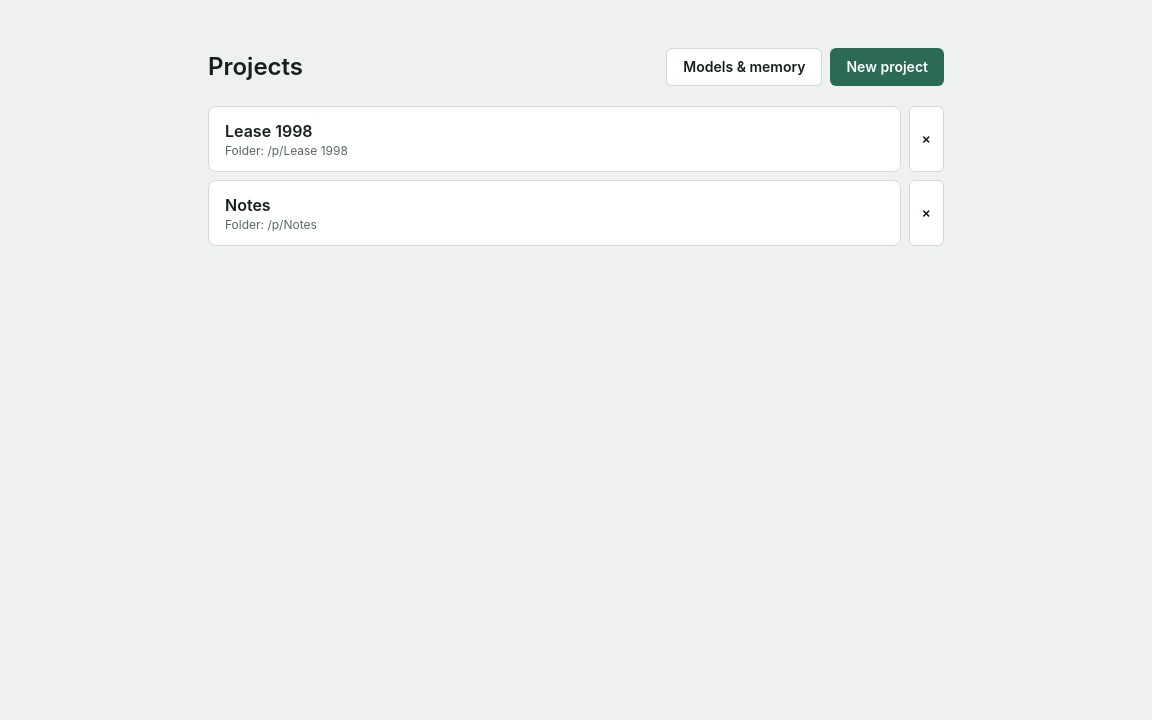
Test: Removing a project › sends the name as typed, and the list loses the project
This screenshot has width=1152, height=720.
Step 1. Click the button named "Remove Lease 1998" → point(926, 139), box 909,106 -> 944,172
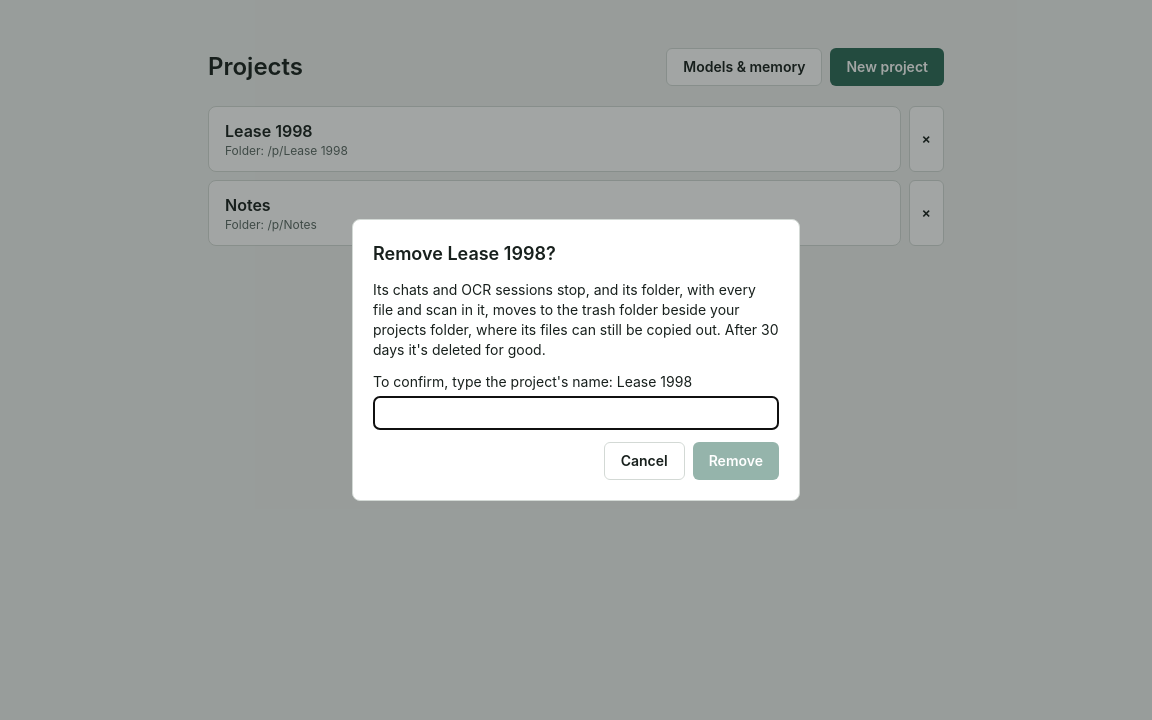
Step 2. Type "Lease 1998" into the field labelled "To confirm, type the project's name: Lease 1998" → point(576, 413), box 373,396 -> 779,430
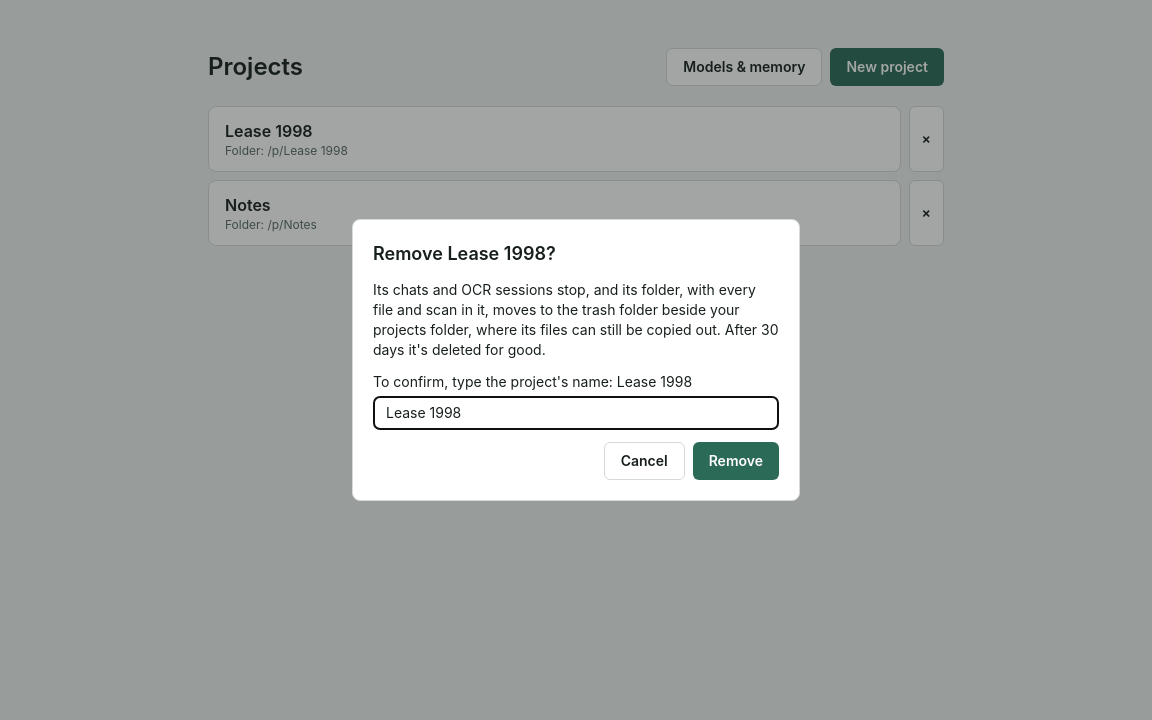
Step 3. Click the button "Remove" → point(736, 461), box 693,442 -> 779,480
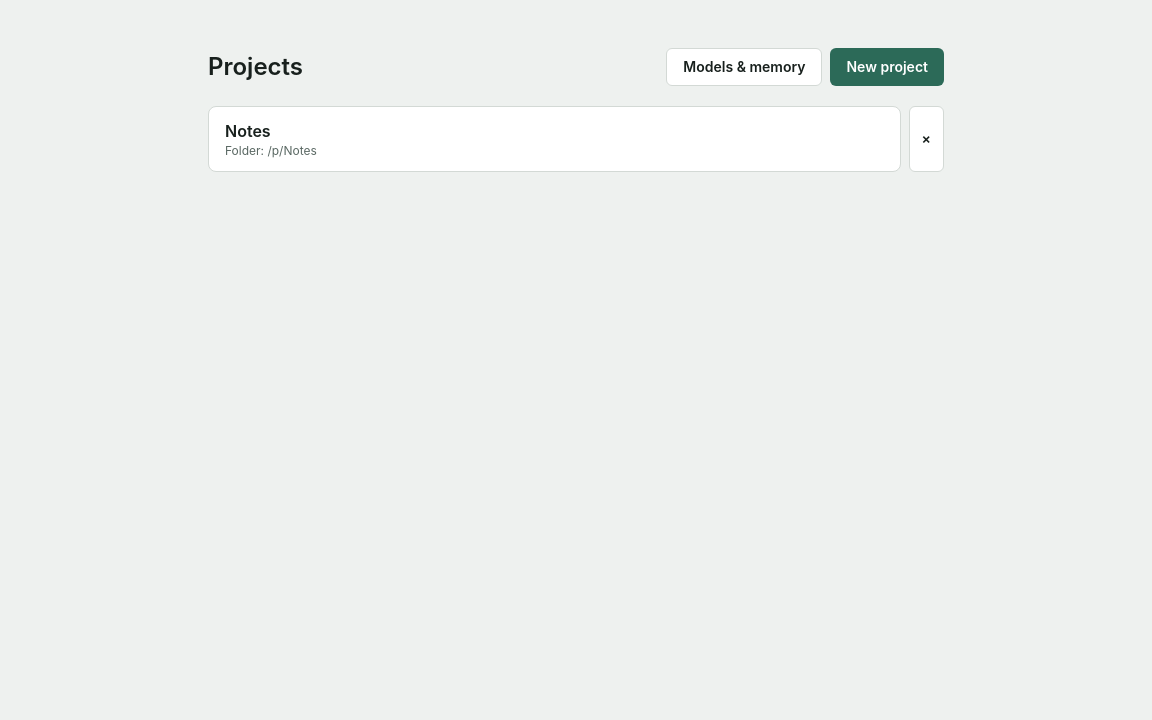
Check: the text "Notes" is shown, box 225,121 -> 271,141
Check: the dialog is gone
Check: the link "Lease 1998" is gone
